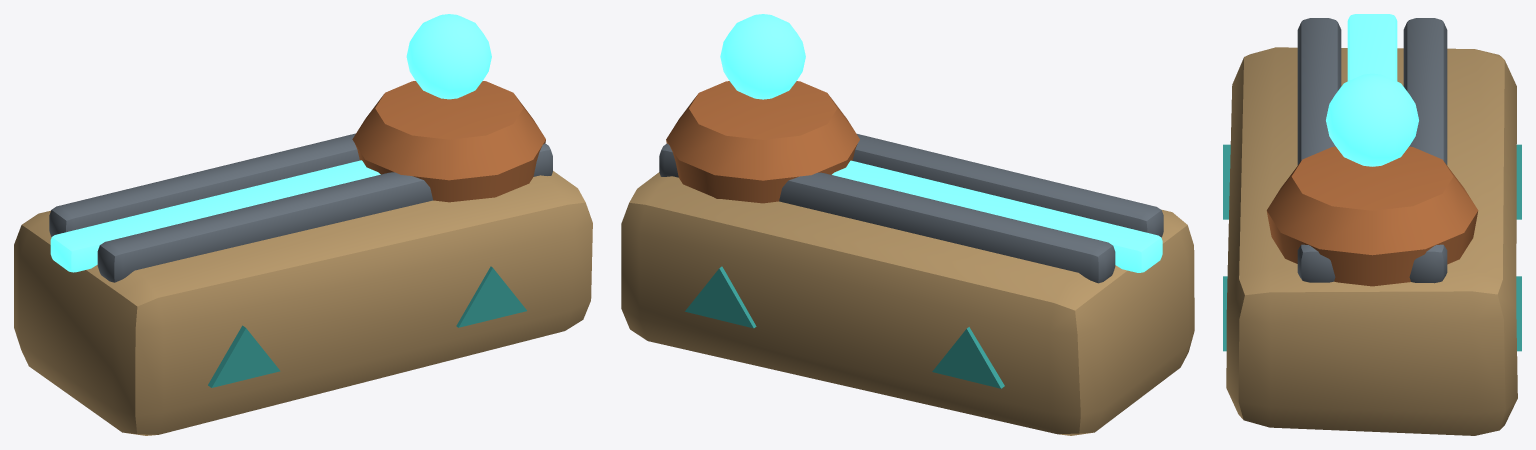
Rendered from deco_conduit_stone_end.fbx.
The picture shows the model from 3 angles, left to right: view 1: azimuth 30°, elevation 25°; view 2: azimuth 150°, elevation 25°; view 3: azimuth 270°, elevation 25°; orthographic projection. The views are drawn at different scales.
Parts seen in each view (by area): view 1: ConduitStone_End_Stone, ConduitStone_End_Lips, ConduitStone_End_NodeCap, ConduitStone_End_GlowLine, ConduitStone_End_NodeOrb, ConduitStone_End_Glyphs; view 2: ConduitStone_End_Stone, ConduitStone_End_Lips, ConduitStone_End_NodeCap, ConduitStone_End_GlowLine, ConduitStone_End_NodeOrb, ConduitStone_End_Glyphs; view 3: ConduitStone_End_Stone, ConduitStone_End_NodeCap, ConduitStone_End_Lips, ConduitStone_End_NodeOrb, ConduitStone_End_GlowLine, ConduitStone_End_Glyphs.
Part boxes in pixels (box(x1,y1,x2,y2)): ConduitStone_End_Stone: box(14, 171, 592, 435); ConduitStone_End_Lips: box(49, 133, 552, 282); ConduitStone_End_NodeCap: box(352, 81, 545, 202); ConduitStone_End_GlowLine: box(50, 160, 380, 272); ConduitStone_End_NodeOrb: box(406, 14, 491, 99); ConduitStone_End_Glyphs: box(208, 266, 526, 387); ConduitStone_End_Stone: box(621, 172, 1194, 435); ConduitStone_End_Lips: box(659, 134, 1163, 283); ConduitStone_End_NodeCap: box(666, 81, 859, 203); ConduitStone_End_GlowLine: box(832, 160, 1162, 272); ConduitStone_End_NodeOrb: box(720, 14, 805, 99); ConduitStone_End_Glyphs: box(685, 266, 1004, 388); ConduitStone_End_Stone: box(1226, 47, 1517, 435); ConduitStone_End_NodeCap: box(1266, 146, 1478, 286); ConduitStone_End_Lips: box(1297, 18, 1447, 283); ConduitStone_End_NodeOrb: box(1326, 73, 1418, 166); ConduitStone_End_GlowLine: box(1347, 14, 1397, 81); ConduitStone_End_Glyphs: box(1223, 144, 1521, 351).
Size of the model in its own units: 97.76 by 58.22 by 48.
